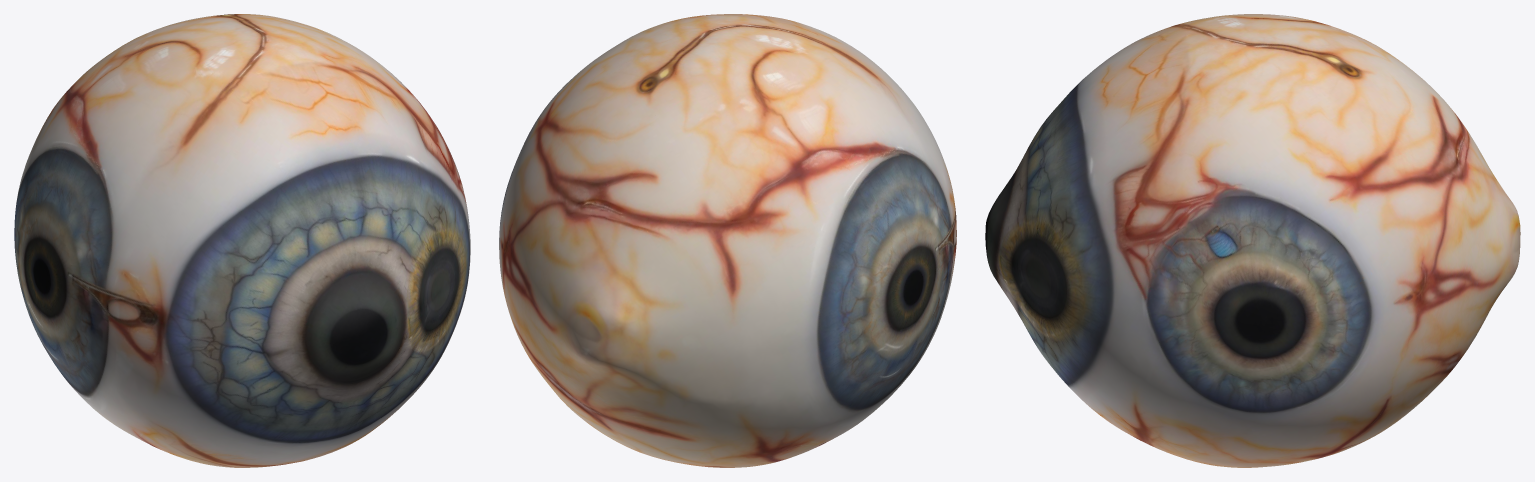
The picture shows the model from 3 angles, left to right: view 1: azimuth 30°, elevation 25°; view 2: azimuth 150°, elevation 25°; view 3: azimuth 270°, elevation 25°; orthographic projection.
Visible parts, largest first — view 1: Mesh1.0; view 2: Mesh1.0; view 3: Mesh1.0.
Boxes of the visible parts, left/top/right/bottom form: Mesh1.0: left=14, top=14, right=470, bottom=467; Mesh1.0: left=499, top=14, right=956, bottom=467; Mesh1.0: left=985, top=14, right=1520, bottom=467.
Size of the model in its own units: 169 by 170 by 201.
Materials: 1 (1 with a texture image).
